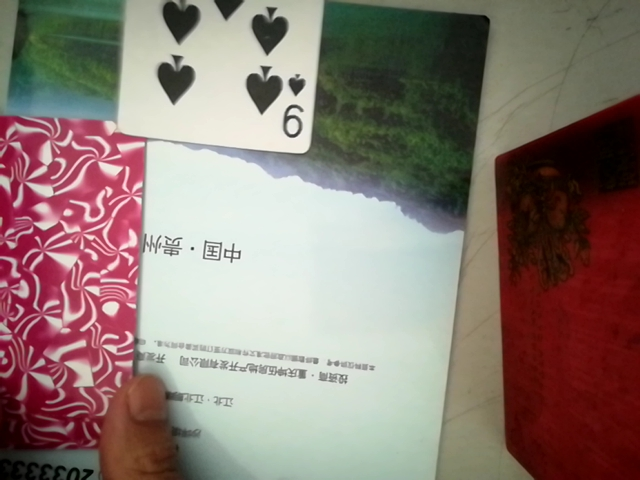ht 9: (109, 0, 336, 159)
